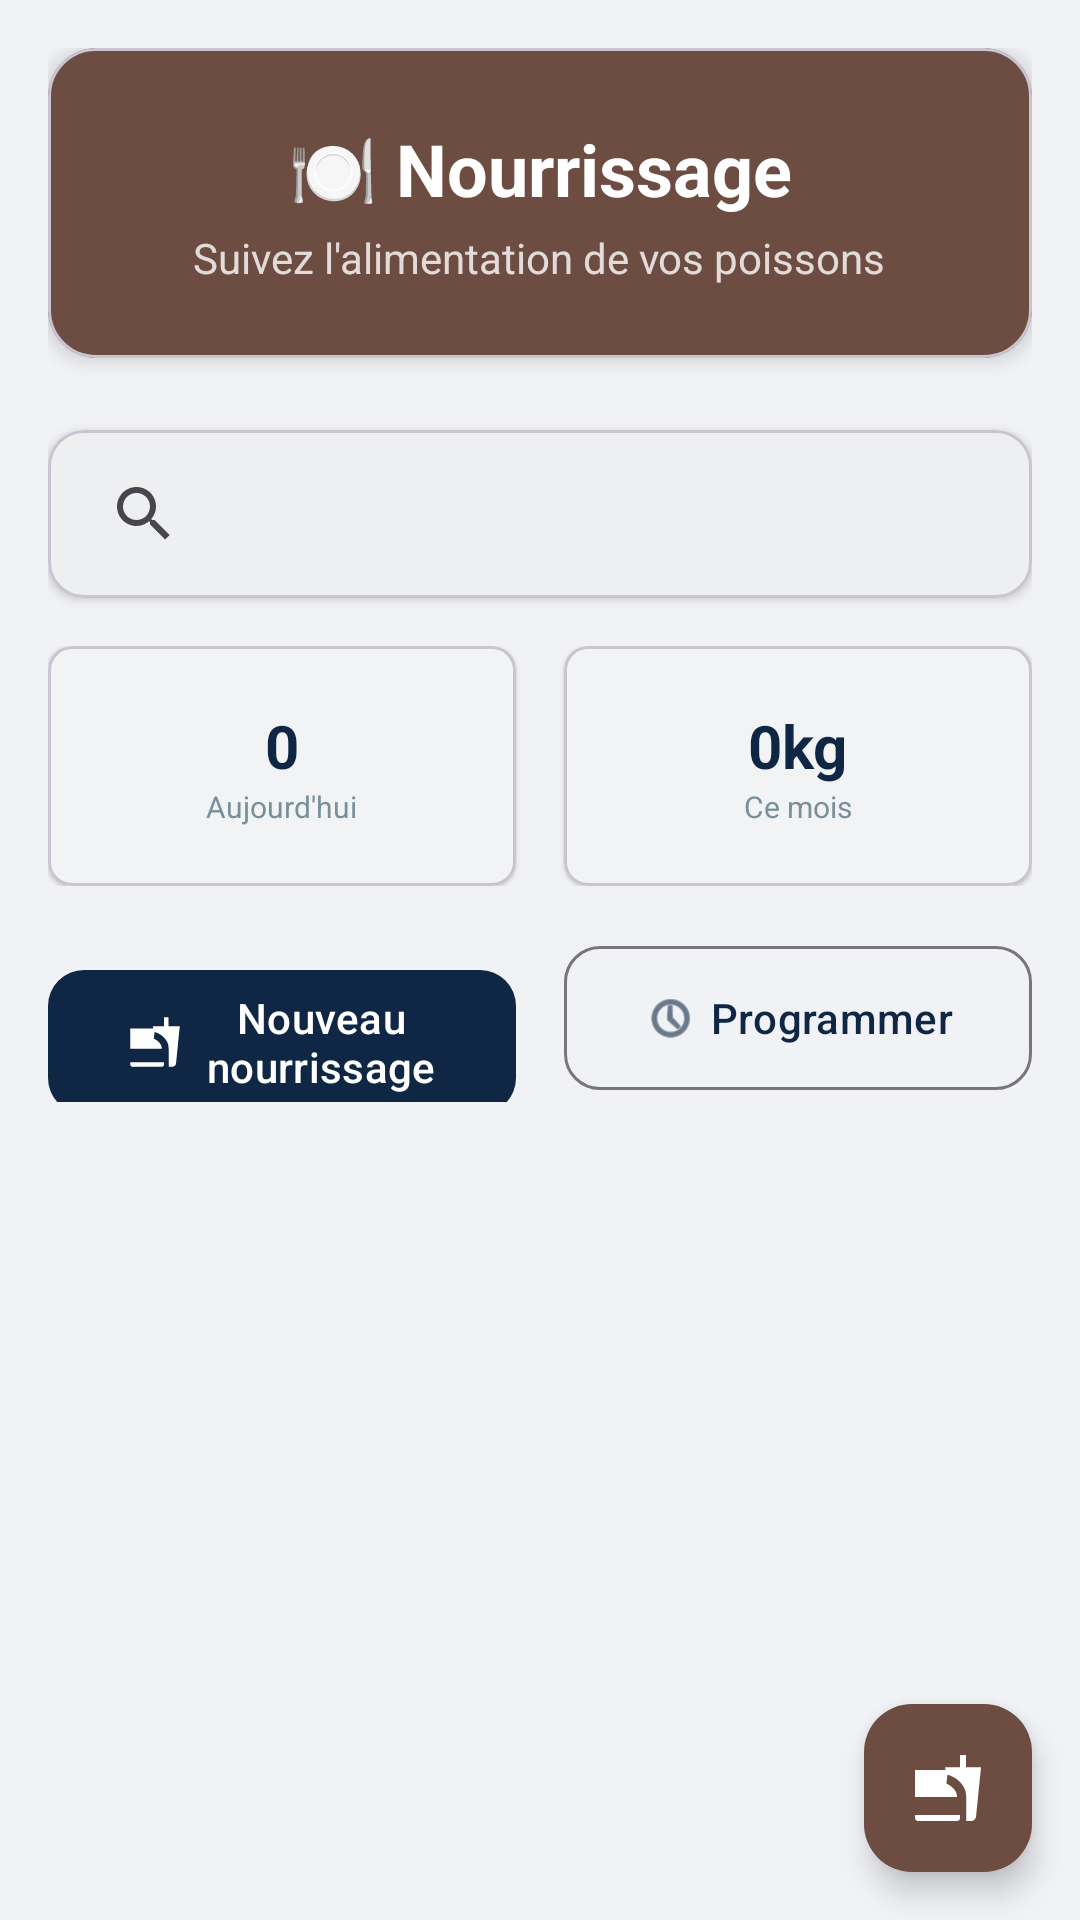

Screen size 1080x1920. Icon name, then its box in pixels as box=[x1, y1, x2, y2]:
food: box=[864, 1704, 1032, 1872]
